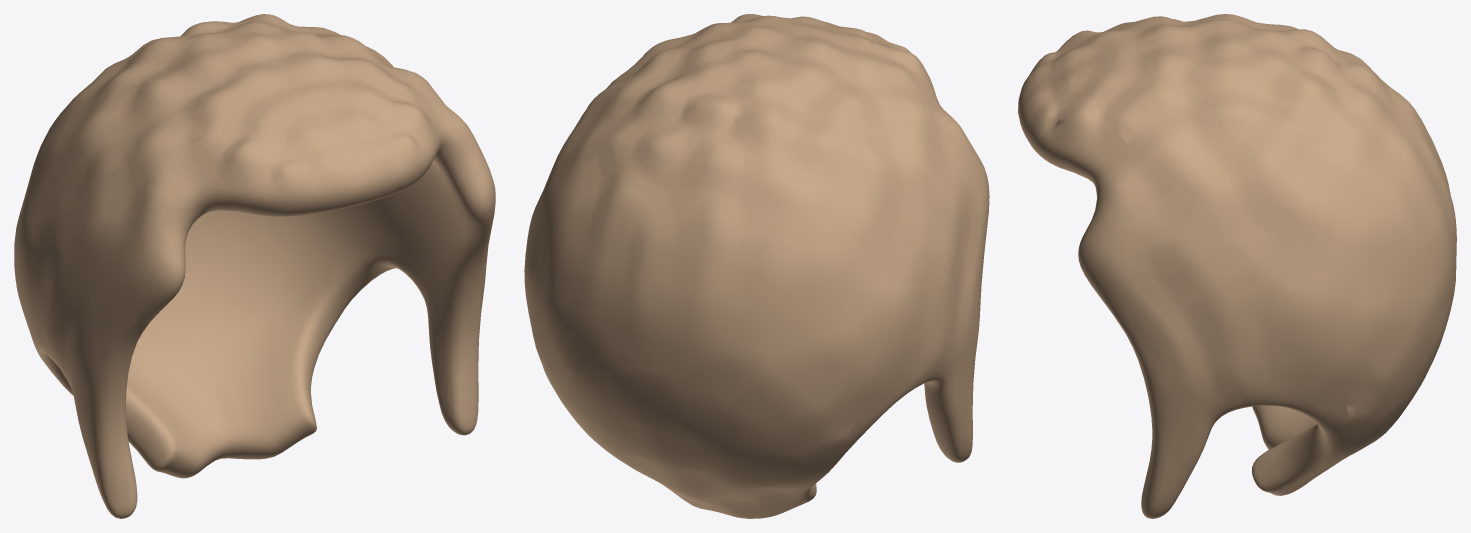
The model's file is hair-2-a659fb10.glb.
The picture shows the model from 3 angles, left to right: view 1: azimuth 30°, elevation 25°; view 2: azimuth 150°, elevation 25°; view 3: azimuth 270°, elevation 25°; orthographic projection. The views are drawn at different scales.
Visible parts, largest first — view 1: Geo_White_Older_Female_Hair_2.001; view 2: Geo_White_Older_Female_Hair_2.001; view 3: Geo_White_Older_Female_Hair_2.001.
Boxes of the visible parts, left/top/right/bottom form: Geo_White_Older_Female_Hair_2.001: left=14, top=14, right=495, bottom=518; Geo_White_Older_Female_Hair_2.001: left=524, top=14, right=989, bottom=518; Geo_White_Older_Female_Hair_2.001: left=1018, top=14, right=1456, bottom=518.
Bounding box in the file's own units: 1.43 × 1.53 × 1.39.
